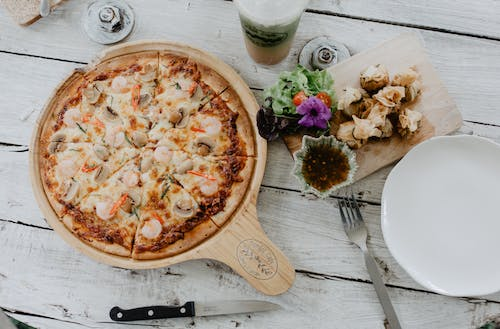knife: (108, 297, 283, 323)
